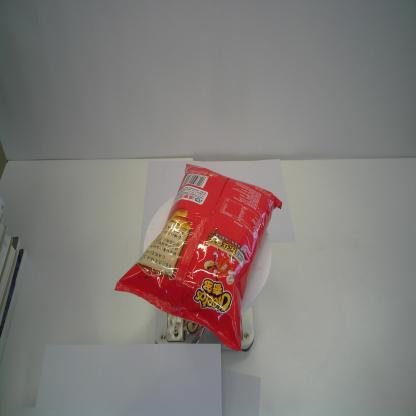Puffed Food: (112, 162, 284, 353)
